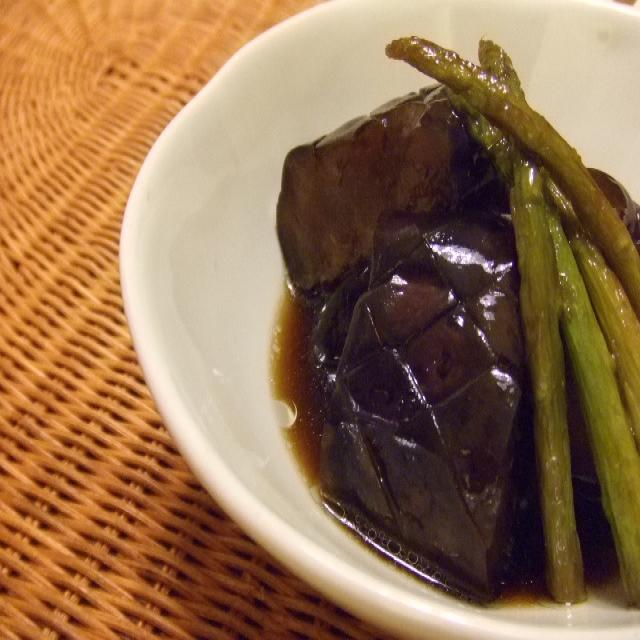鸡蛋料理: (281, 54, 640, 640)
